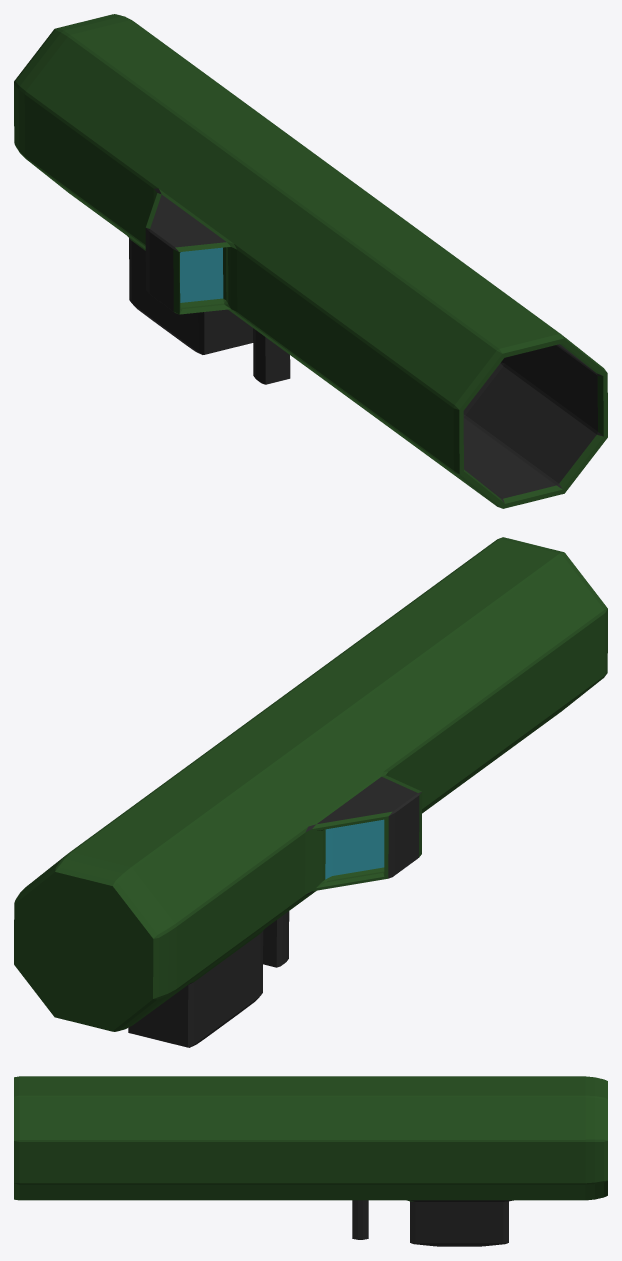
The model's file is bazuka.fbx.
3 renders of one model, top to bottom at view 1: azimuth 30°, elevation 25°; view 2: azimuth 150°, elevation 25°; view 3: azimuth 270°, elevation 25°, orthographic. The views are drawn at different scales.
Visible parts, largest first — view 1: Cylinder; view 2: Cylinder; view 3: Cylinder.
Boxes of the visible parts, x1,y1,x2,y2 form: Cylinder: (14,14,607,508); Cylinder: (14,537,607,1047); Cylinder: (14,1076,607,1246).
Bounding box in the file's own units: 90.1 × 100 × 353.
